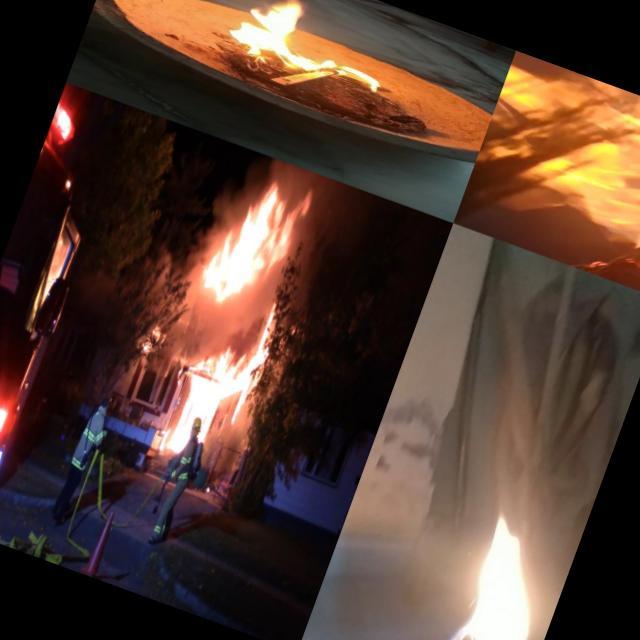fire: (453, 51, 640, 301), (423, 495, 580, 640), (205, 0, 404, 103), (197, 152, 321, 310), (175, 342, 260, 426)
smoke: (172, 284, 272, 362)
